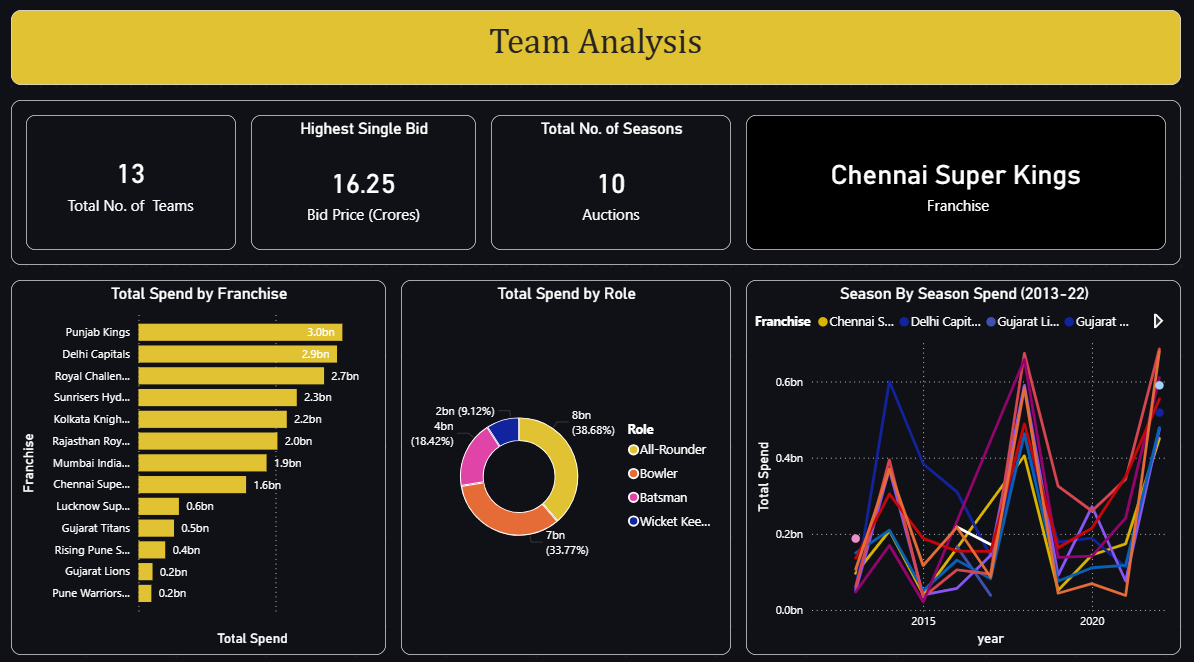

Layout of this report page (visuals, bound fields, positions):
{"tool":"powerbi","page":{"name":"Team Analysis","canvas":[1280,720],"ordinal":2},"visuals":[{"type":"textbox","box":[16,112,1248,176],"z":0},{"type":"card","title":"Total No. of Seasons","fields":{"Values":["Table.Total Bid"]},"box":[528,128,256,144],"z":1000},{"type":"card","title":"Highest Single Bid","fields":{"Values":["ipl ipl_ac.Max_Bid"]},"box":[272,128,240,144],"z":2000},{"type":"card","fields":{"Values":["Table.Total Team"]},"box":[32,128,224,144],"z":3000},{"type":"clusteredBarChart","fields":{"Category":["ipl ipl_ac.Franchise"],"Y":["Table.Total Spend"]},"box":[16,304,400,400],"z":5000},{"type":"donutChart","fields":{"Category":["ipl ipl_ac.Role"],"Y":["Table.Total Spend"]},"box":[432,304,352,400],"z":7000},{"type":"textbox","title":"Team Analysis","box":[16,16,1248,80],"z":8000},{"type":"lineChart","title":"Season By Season Spend (2013-22)","fields":{"Category":["ipl ipl_ac.year"],"Y":["Table.Total Spend"],"Series":["ipl ipl_ac.Franchise"]},"box":[800,304,464,400],"z":9000},{"type":"card","fields":{"Values":["Min(ipl ipl_ac.Franchise)"]},"box":[800,128,448,144],"z":9001}]}

Visuals, with their boxes in screenshot pixels (x1, y1, x2, y2), scaled from the page's 1280x720 canvas onto the 1194x662 screenshot:
textbox: bbox(15, 103, 1179, 265)
"Total No. of Seasons" card: bbox(493, 118, 731, 250)
"Highest Single Bid" card: bbox(254, 118, 478, 250)
card - Table.Total Team: bbox(30, 118, 239, 250)
clusteredBarChart - ipl ipl_ac.Franchise x Table.Total Spend: bbox(15, 280, 388, 647)
donutChart - ipl ipl_ac.Role x Table.Total Spend: bbox(403, 280, 731, 647)
"Team Analysis" textbox: bbox(15, 15, 1179, 88)
"Season By Season Spend (2013-22)" lineChart: bbox(746, 280, 1179, 647)
card - Min(ipl ipl_ac.Franchise): bbox(746, 118, 1164, 250)
